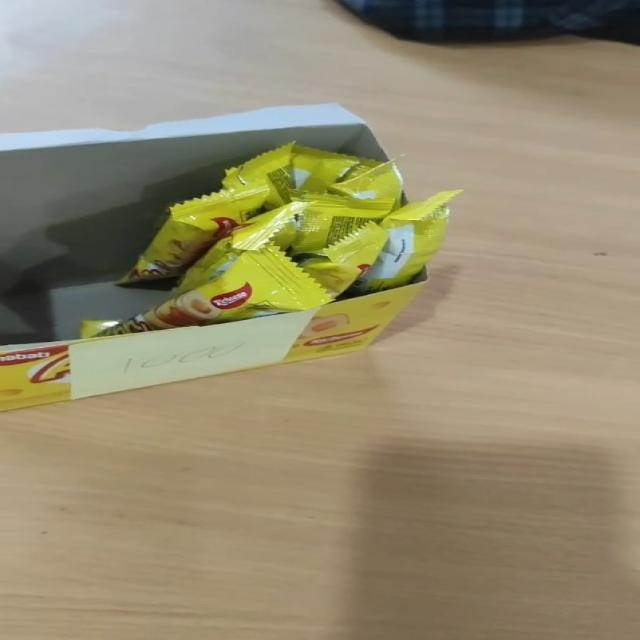Ahh: (98, 244, 328, 335), (118, 187, 265, 285), (175, 203, 305, 293), (353, 190, 461, 294), (299, 223, 386, 298), (293, 195, 391, 252), (222, 143, 293, 204), (287, 145, 357, 194), (331, 161, 402, 204)
